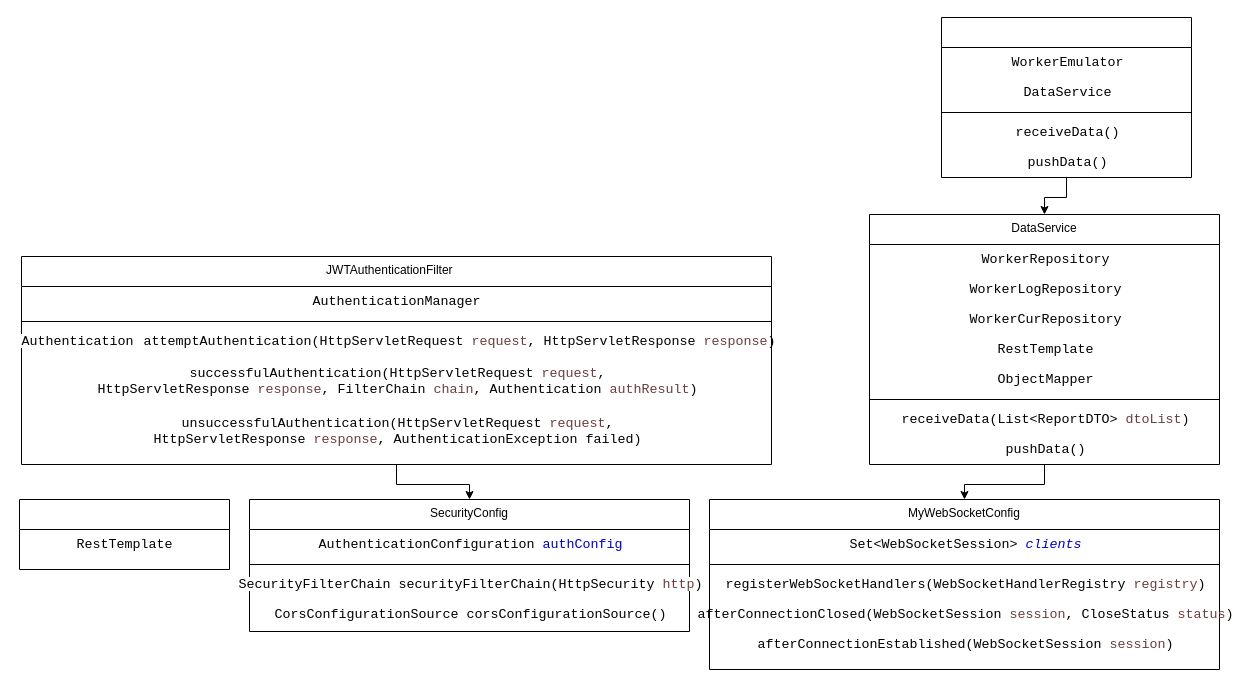
Some shapes in this 1250 by 687 pixel diagram are drawn without their labels. Here are the shapes that lost their labels. From the top down, the box of each, then its label:
(940, 16, 1192, 178): DataController
(18, 498, 230, 570): AppConfig
